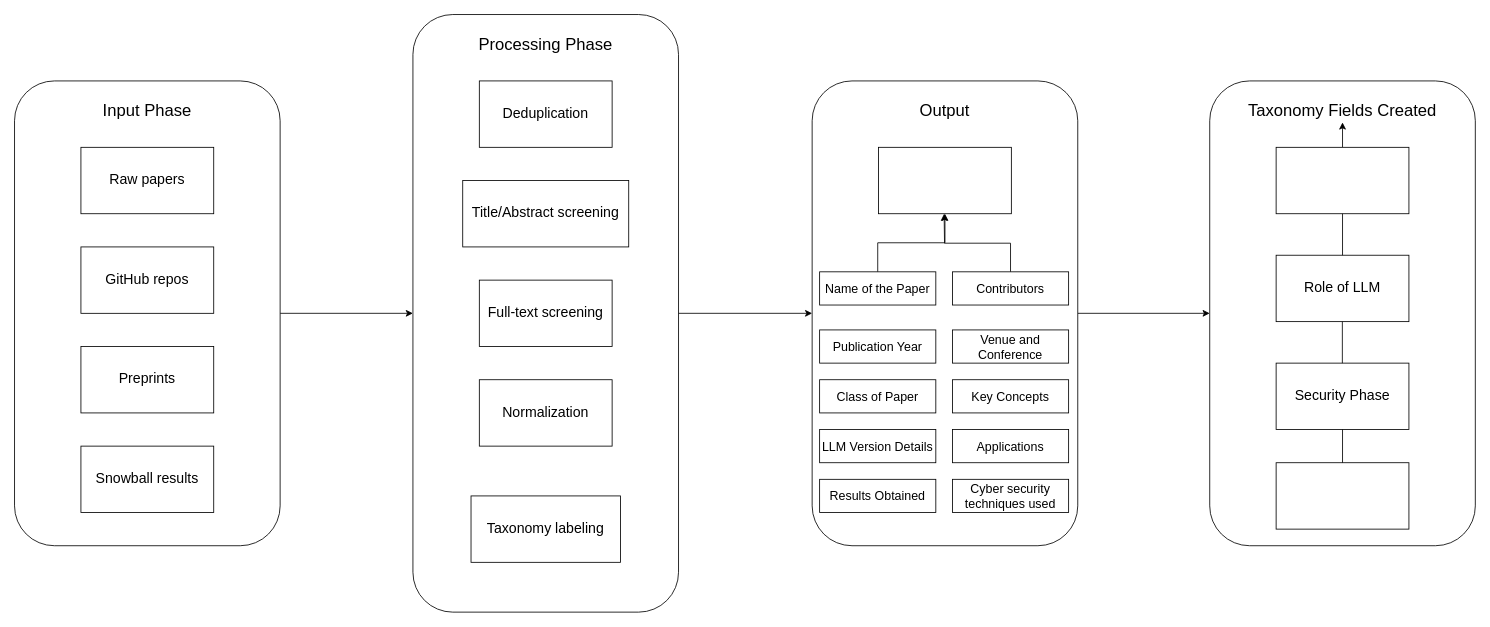
The diagram is 1490 pixels wide and 627 high, and some of its shapes have lost their labels. The centre of each missing label's shape, as x and y in pixels:
Main Data CSV: pixel 944 180
Purpose (Defensive / Attacking): pixel 1342 180
Security Activities: pixel 1342 495
